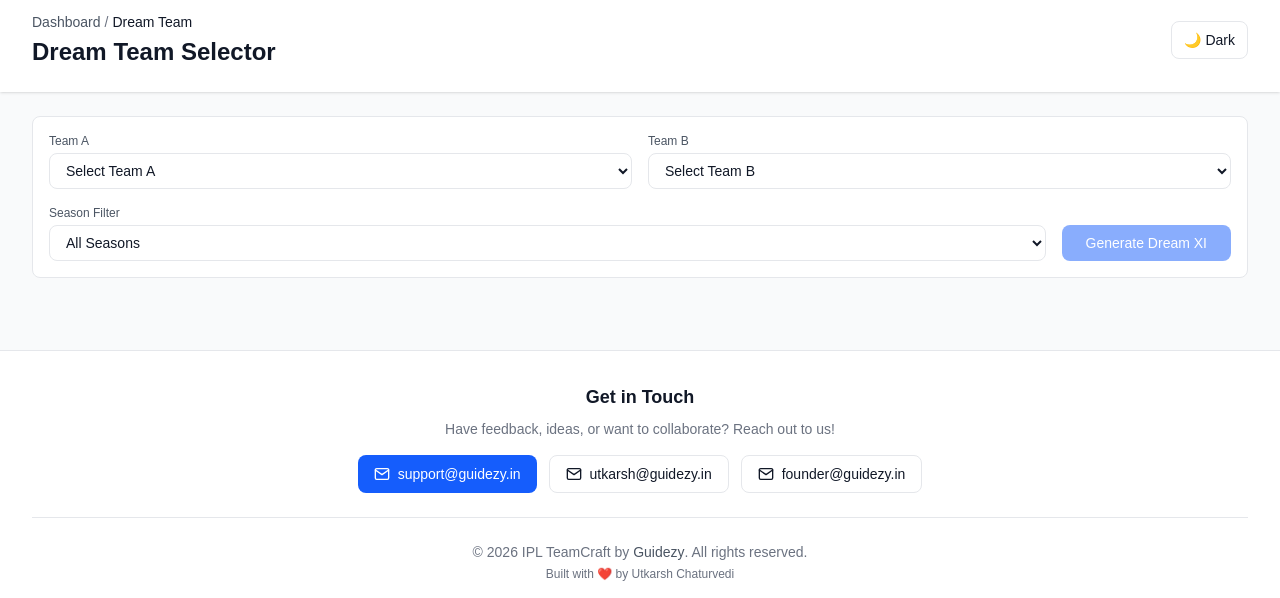
DreamTeamPage › generate button is enabled when two different teams selected
Select "Team Alpha" in the dropdown named "Select Team A": x=340, y=171 [49,153,632,189]
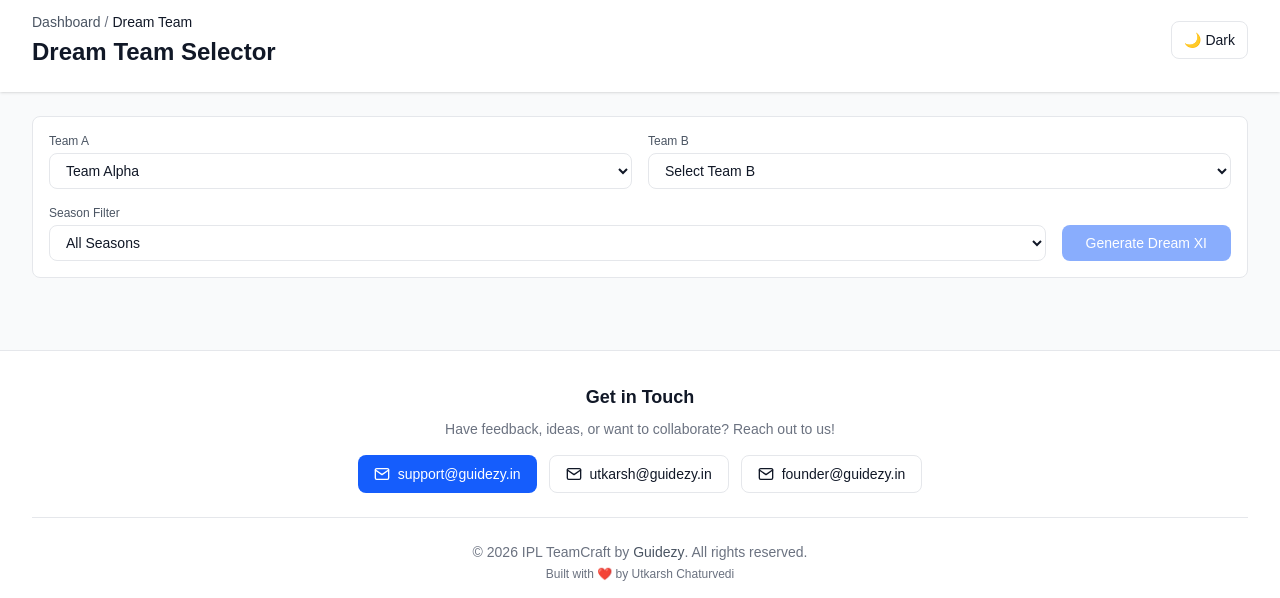
Select "Team Beta" in the dropdown named "Select Team B": x=940, y=171 [648,153,1231,189]
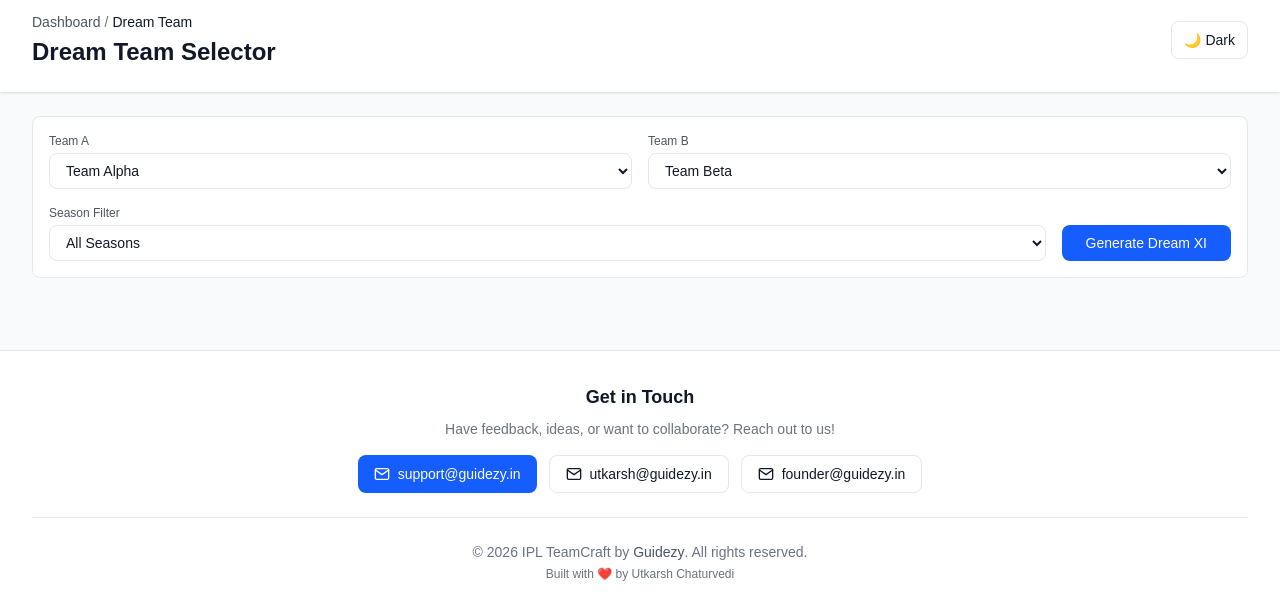
Check: the button with test id "generate-btn" is enabled, box [1062,225,1231,261]
